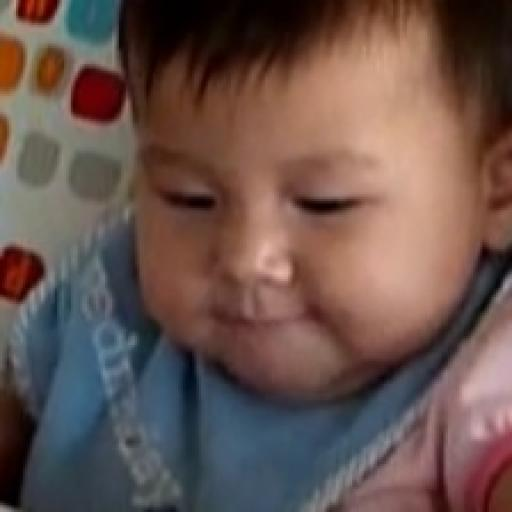Autism: (42, 52, 503, 419)
